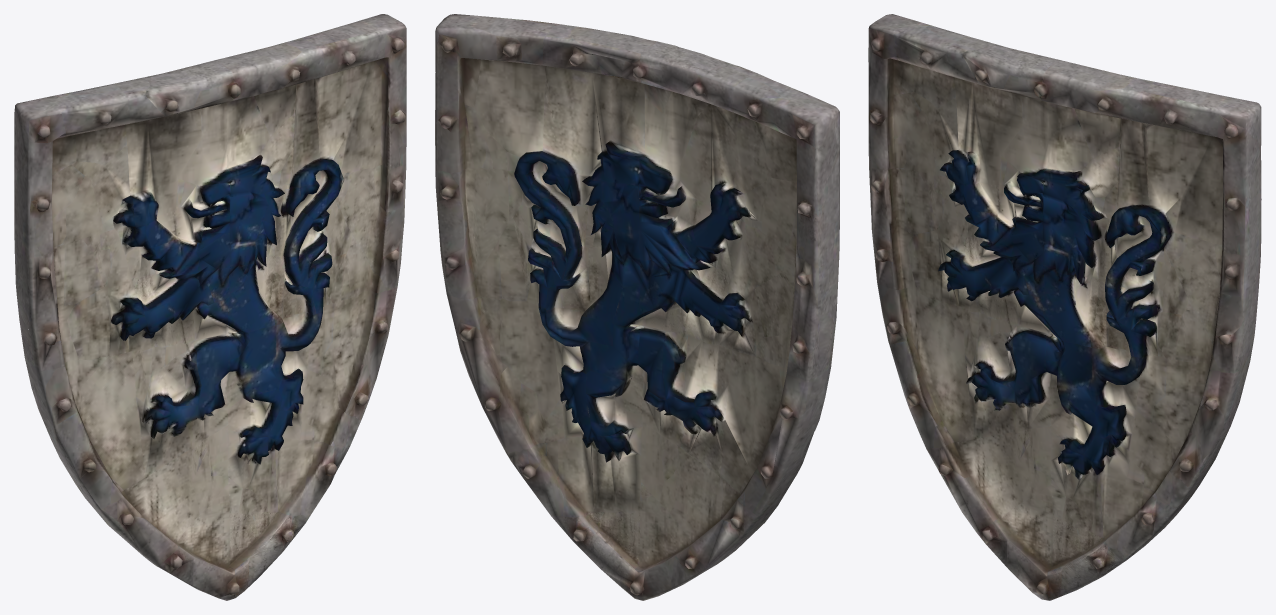
The model's file is shield-movil.glb.
The picture shows the model from 3 angles, left to right: view 1: azimuth 30°, elevation 25°; view 2: azimuth 150°, elevation 25°; view 3: azimuth 330°, elevation 25°; orthographic projection. The views are drawn at different scales.
Parts seen in each view (by area): view 1: tripo_node_161017f1-e1aa-4f9a-8ba3-708ba42ae7f9; view 2: tripo_node_161017f1-e1aa-4f9a-8ba3-708ba42ae7f9; view 3: tripo_node_161017f1-e1aa-4f9a-8ba3-708ba42ae7f9.
Part boxes in pixels (x1,y1,x2,y2): tripo_node_161017f1-e1aa-4f9a-8ba3-708ba42ae7f9: (14, 14, 406, 600); tripo_node_161017f1-e1aa-4f9a-8ba3-708ba42ae7f9: (435, 14, 839, 600); tripo_node_161017f1-e1aa-4f9a-8ba3-708ba42ae7f9: (868, 14, 1261, 600).
Bounding box in the file's own units: 0.7351 × 0.9805 × 0.136.
Materials: 1 (1 with a texture image).
